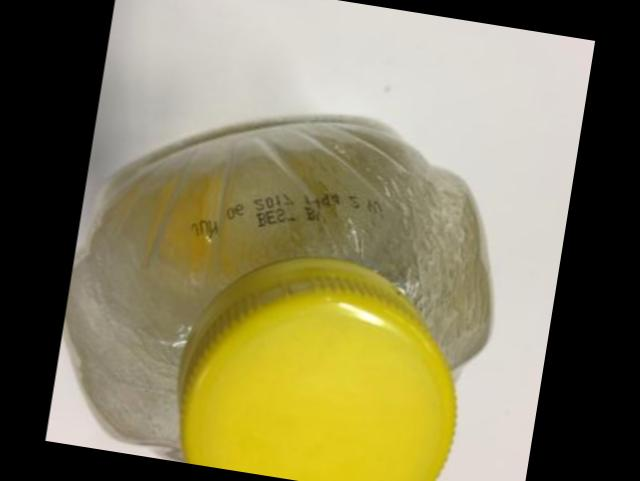plastic: (64, 117, 494, 462)
